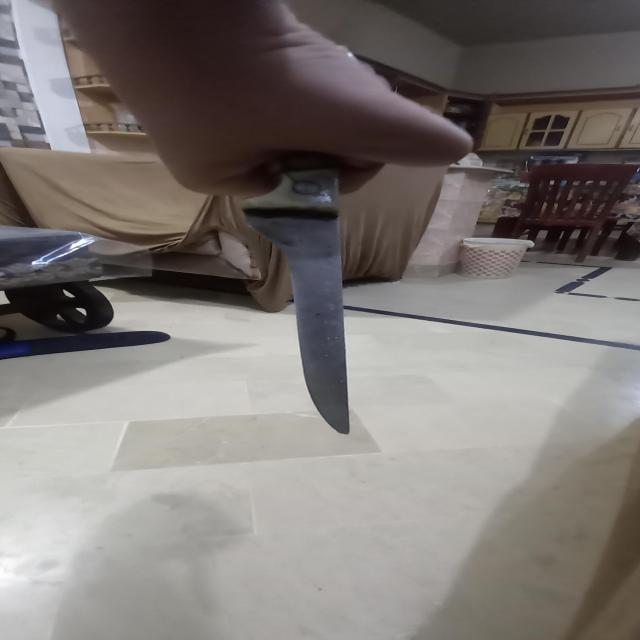Knife: (242, 142, 348, 432)
Person: (68, 0, 476, 204)
